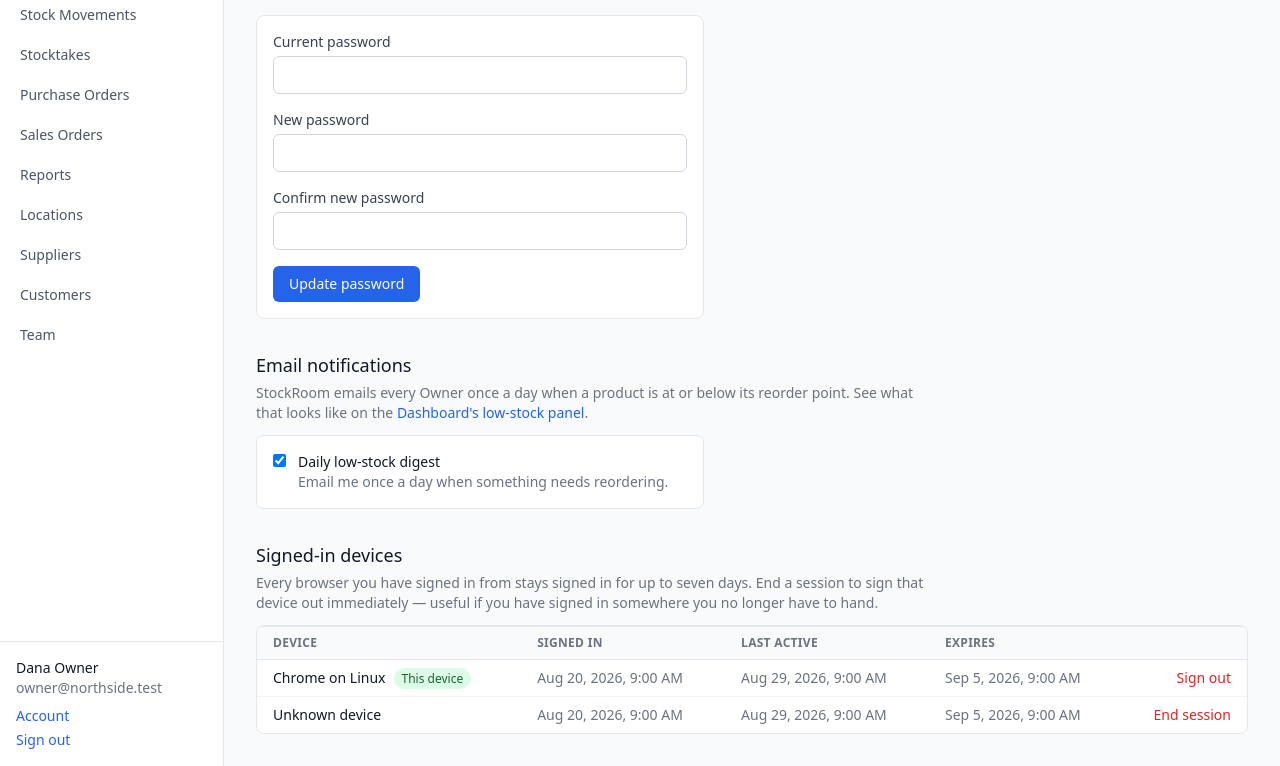
Scenario: AccountPage sessions › ends another device's session on confirm and refreshes the list
This screenshot has width=1280, height=766.
(page scrolled)
Check: the text "Unknown device" is shown, box [257,696,521,733]
Click the button "End session" at (1192, 715), box [1154,705,1231,725]
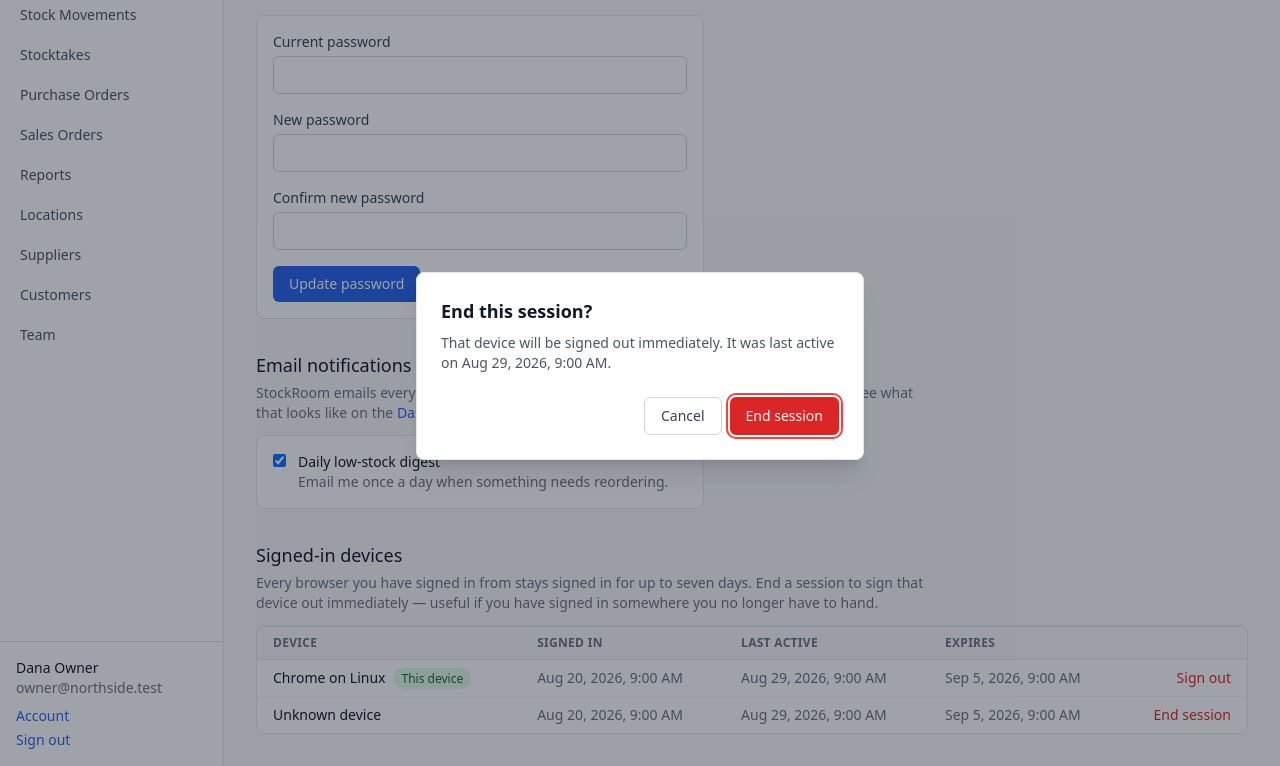
Click the button "End session" at (784, 416), box [730,397,839,435]
(page scrolled)
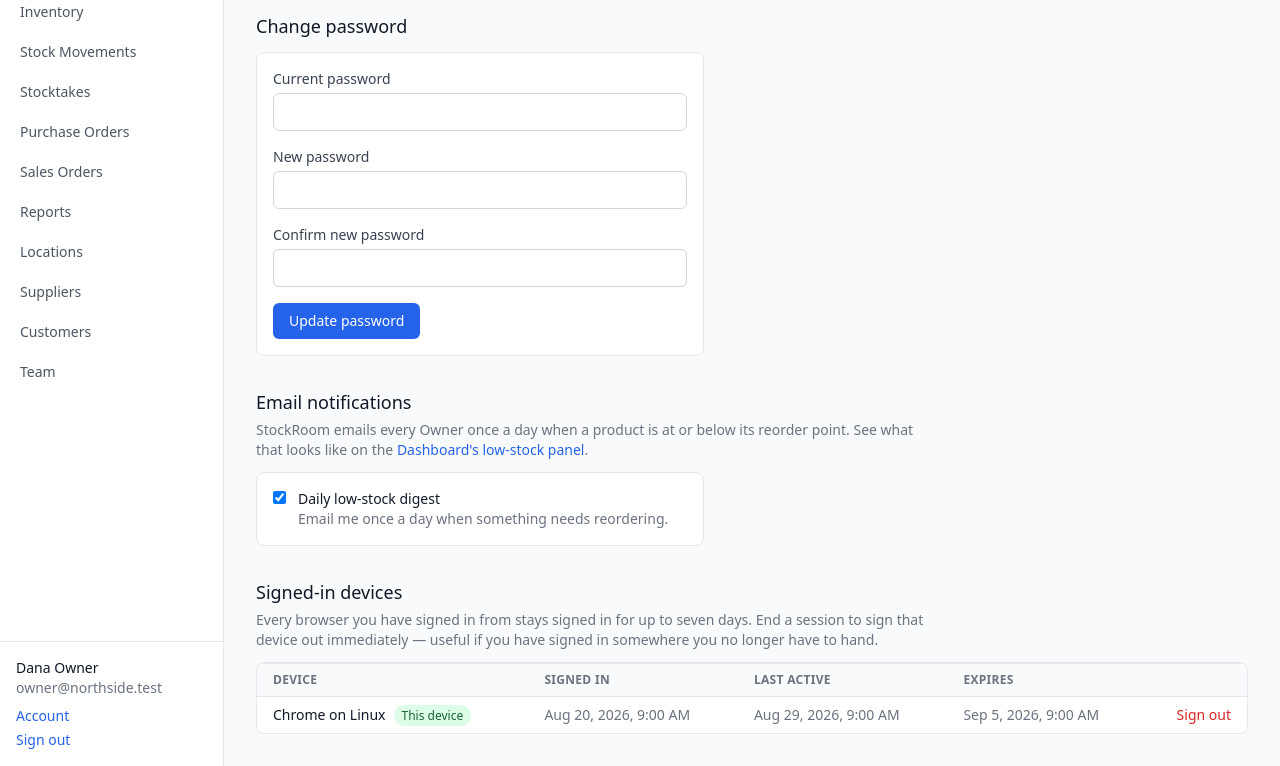
Check: the text "Unknown device" is gone
